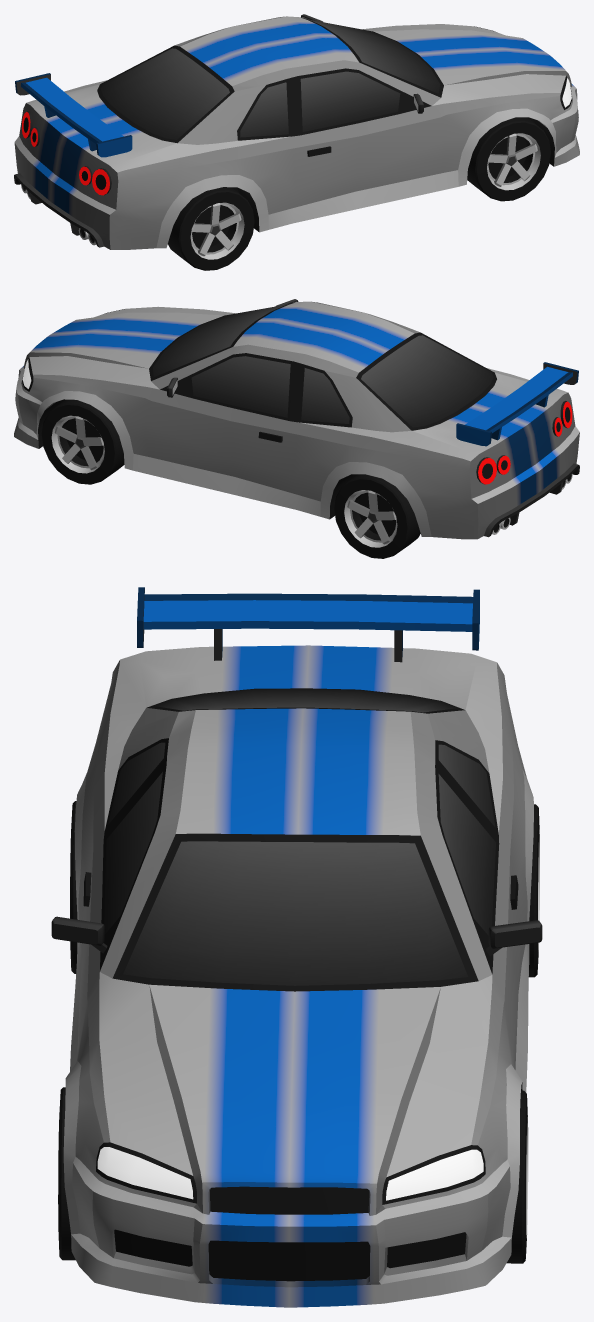
Rendered from Car_226.glb.
3 views of the same model, one above another, from view 1: azimuth 30°, elevation 25°; view 2: azimuth 150°, elevation 25°; view 3: azimuth 270°, elevation 25° (orthographic). The views are drawn at different scales.
Visible parts, largest first — view 1: Car_226, wheel_3_Car_226_Wheel_3R, wheel_1_Car_226_Wheel_1R; view 2: Car_226, wheel_2_Car_226_Wheel_2L, wheel_0_Car_226_Wheel_1L; view 3: Car_226, wheel_0_Car_226_Wheel_1L, wheel_1_Car_226_Wheel_1R, wheel_2_Car_226_Wheel_2L.
Part boxes in pixels (x1,y1,x2,y2): Car_226: (14, 14, 579, 249); wheel_3_Car_226_Wheel_3R: (168, 187, 254, 270); wheel_1_Car_226_Wheel_1R: (467, 117, 550, 201); Car_226: (14, 299, 579, 539); wheel_2_Car_226_Wheel_2L: (334, 474, 420, 558); wheel_0_Car_226_Wheel_1L: (41, 399, 124, 484); Car_226: (51, 587, 542, 1307); wheel_0_Car_226_Wheel_1L: (507, 1090, 528, 1263); wheel_1_Car_226_Wheel_1R: (58, 1087, 75, 1260); wheel_2_Car_226_Wheel_2L: (528, 804, 539, 977).
Bounding box in the file's own units: 4.53 × 1.35 × 1.9.
Materials: 2 (2 with a texture image).
